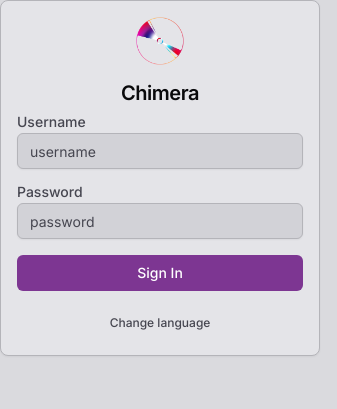
Test case: a rejected login is announced rather than only shown
What coordinates should you click on to do the following:
click the button "Sign In"
I would click on:
 (160, 273)
Its box is [17, 255, 303, 291].
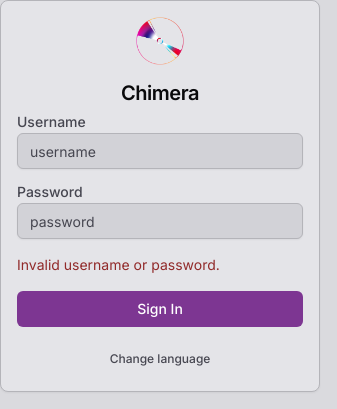
Expected: the message reads "Invalid username or password.", [17, 256, 220, 273]
